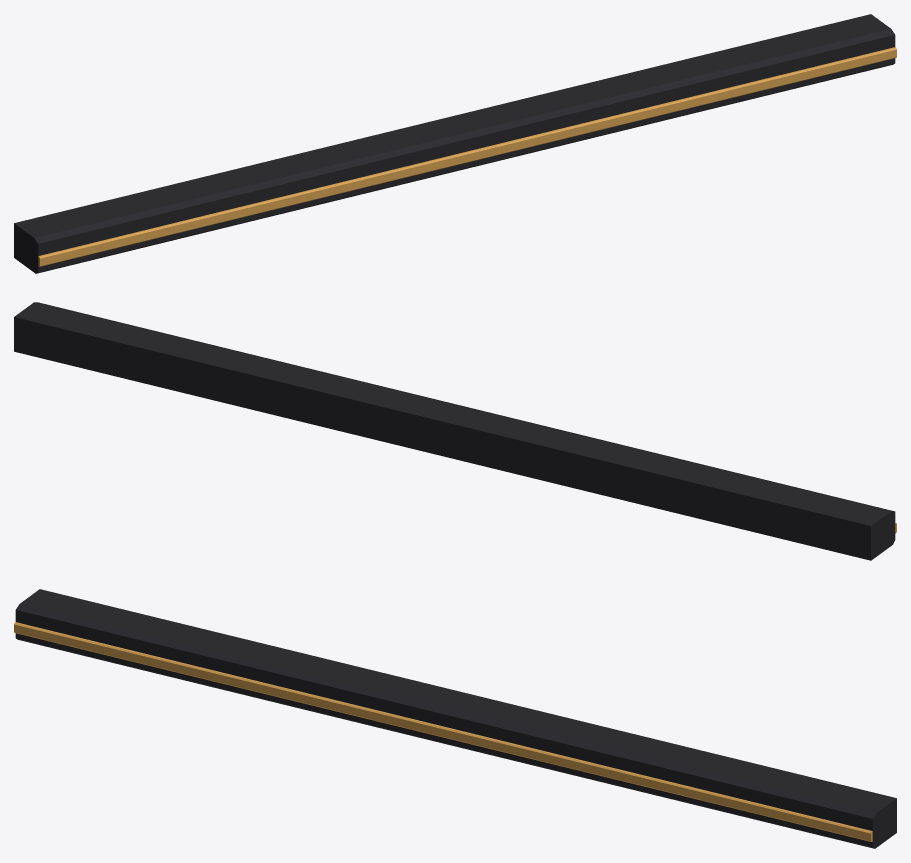
Rendered from sign_frame_edge_h.glb.
3 renders of one model, top to bottom at view 1: azimuth 30°, elevation 25°; view 2: azimuth 150°, elevation 25°; view 3: azimuth 330°, elevation 25°, orthographic.
Parts seen in each view (by area): view 1: sign_frame_edge_h; view 2: sign_frame_edge_h; view 3: sign_frame_edge_h.
Part boxes in pixels (left/top/right/bottom): sign_frame_edge_h: left=14, top=14, right=896, bottom=273; sign_frame_edge_h: left=14, top=302, right=896, bottom=560; sign_frame_edge_h: left=14, top=589, right=896, bottom=848.
Bounding box in the file's own units: 0.88 × 0.034 × 0.046.
